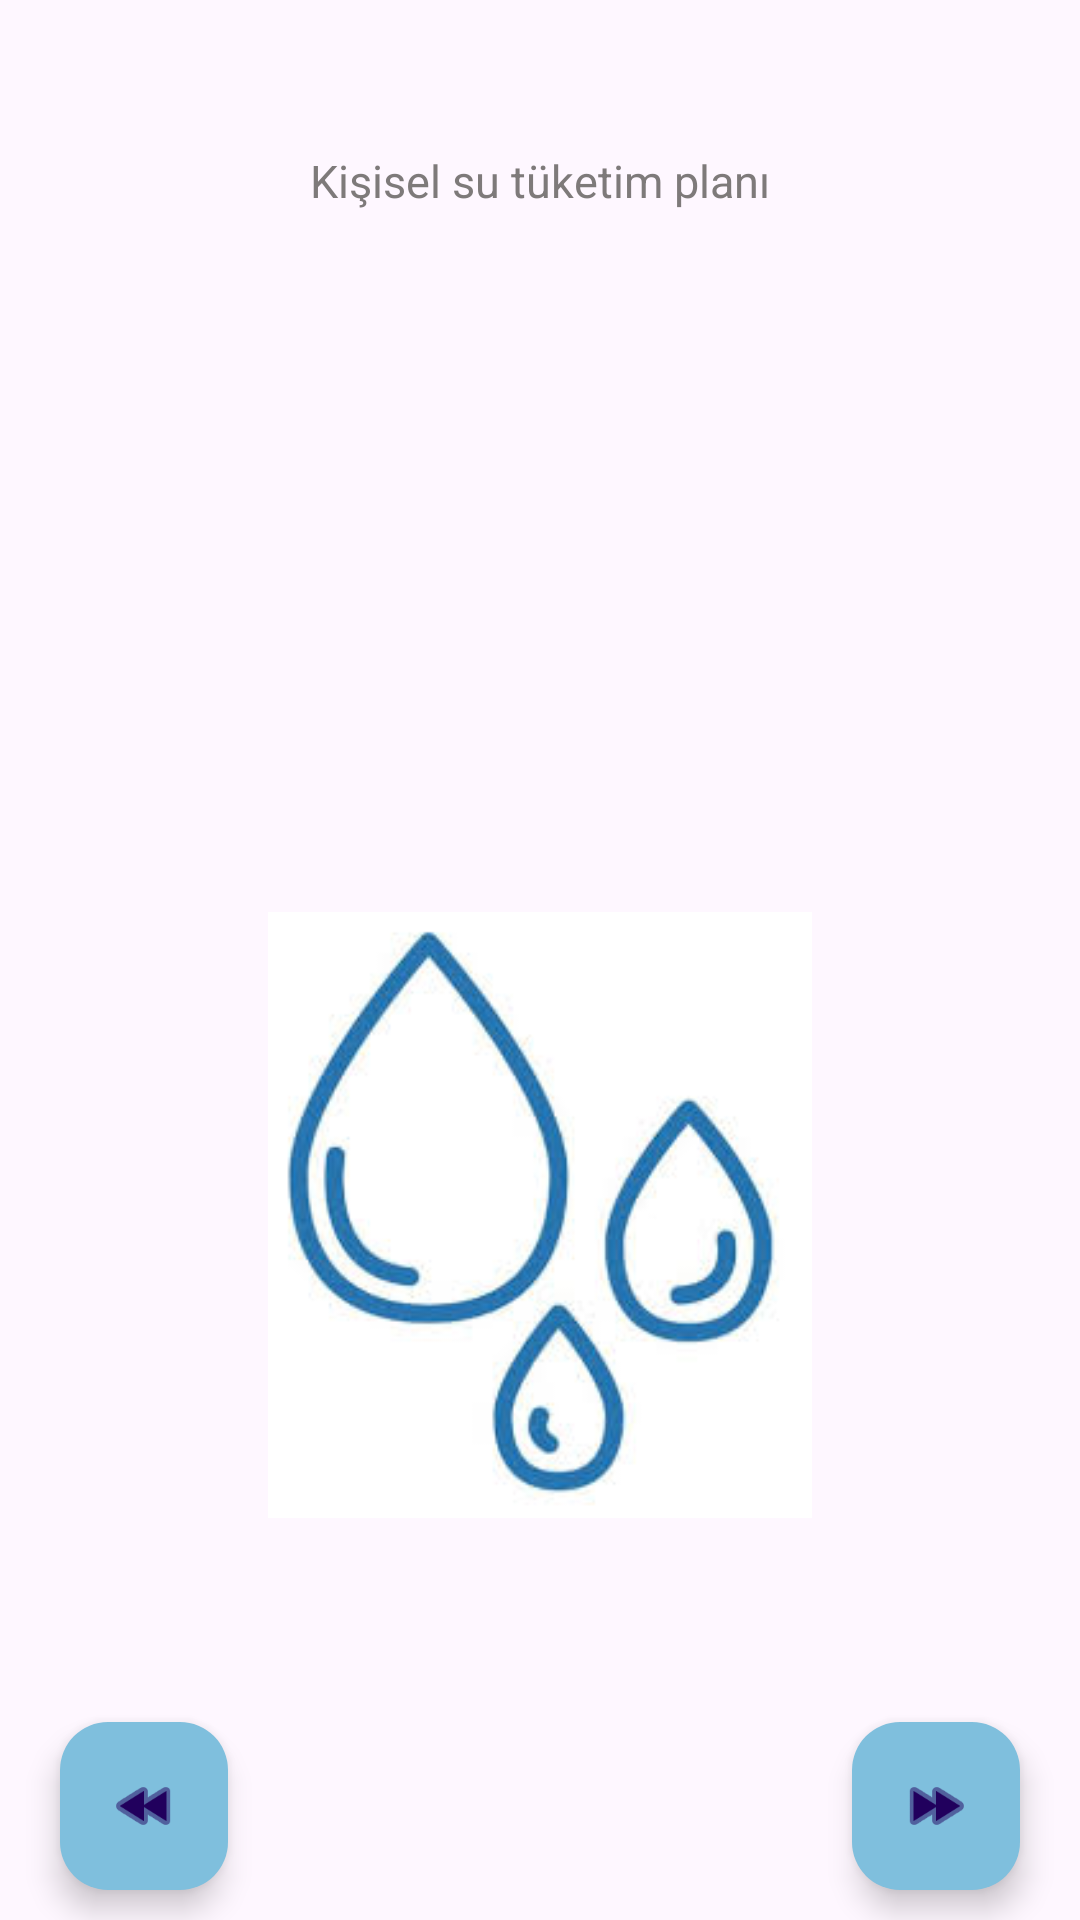

Where icons sit on this 1080 x 1920 app screen, as (x1=x1, y1=y1, x2=x2, y2=y2):
rew: (x1=60, y1=1722, x2=228, y2=1890)
